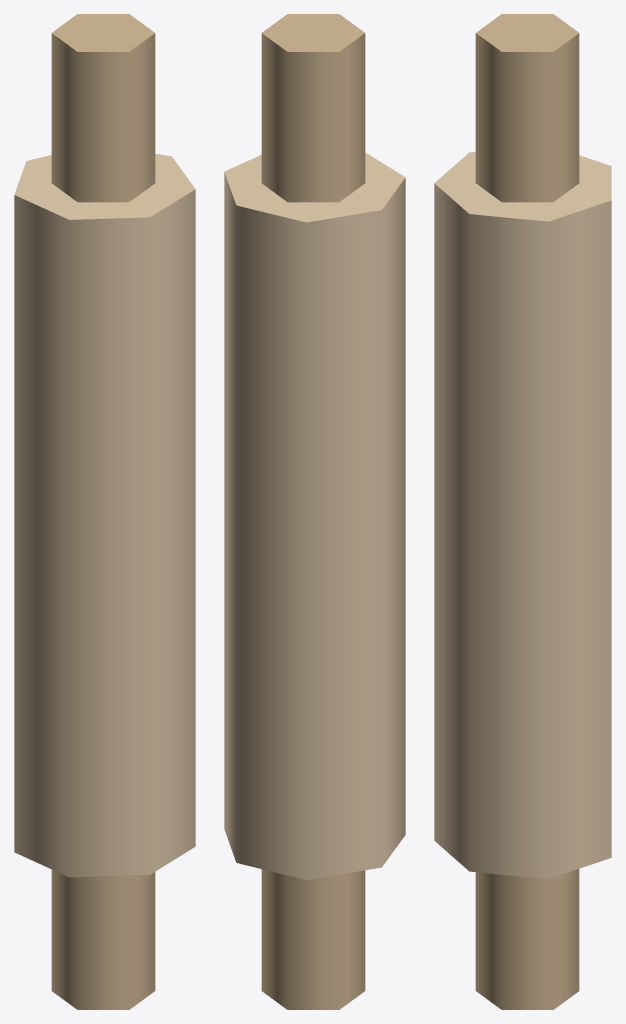
The model's file is oklava.glb.
3 renders of one model, left to right at view 1: azimuth 30°, elevation 25°; view 2: azimuth 150°, elevation 25°; view 3: azimuth 270°, elevation 25°, orthographic.
Bounding box in the file's own units: 0.1755 × 1.02 × 0.1711.
